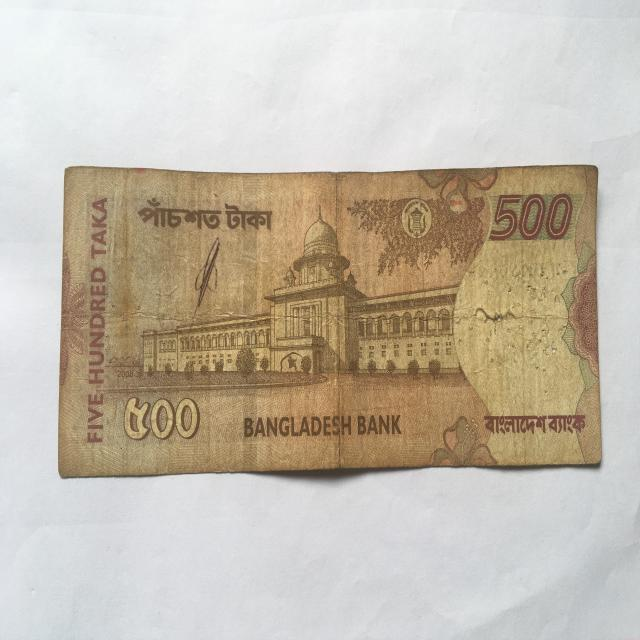Taka: (54, 154, 602, 468)
